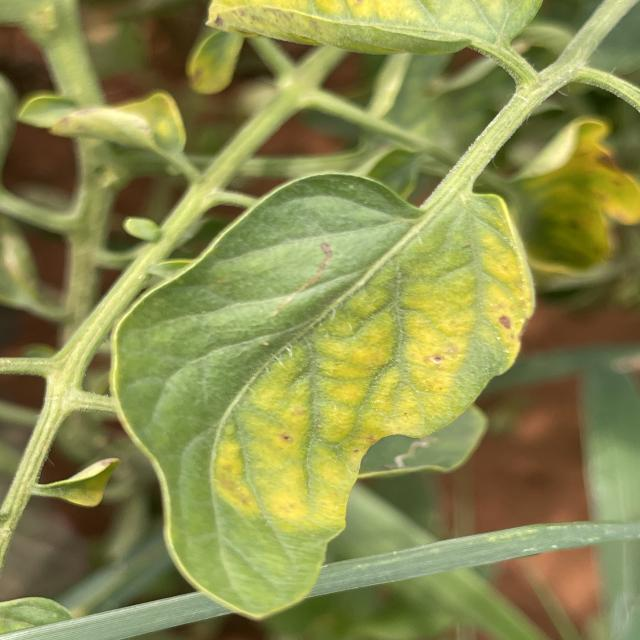tomato_early blight: (112, 159, 528, 618), (206, 0, 546, 64), (519, 110, 640, 274), (22, 86, 195, 163), (38, 462, 122, 518)
